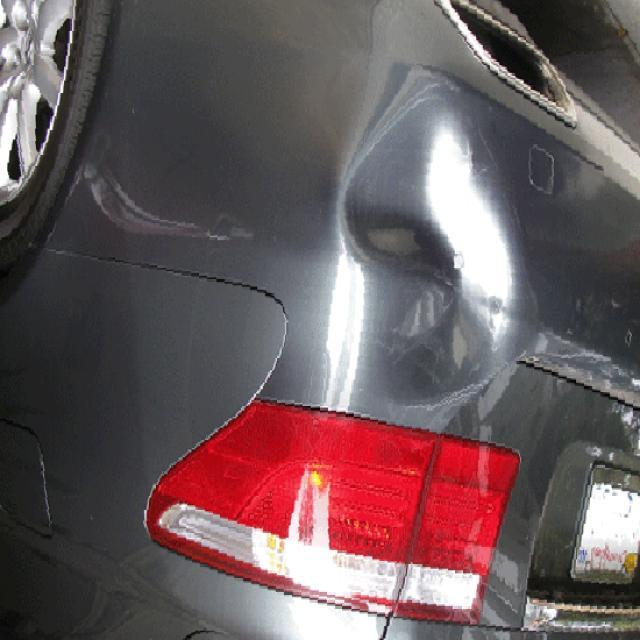dent: (341, 74, 512, 396)
